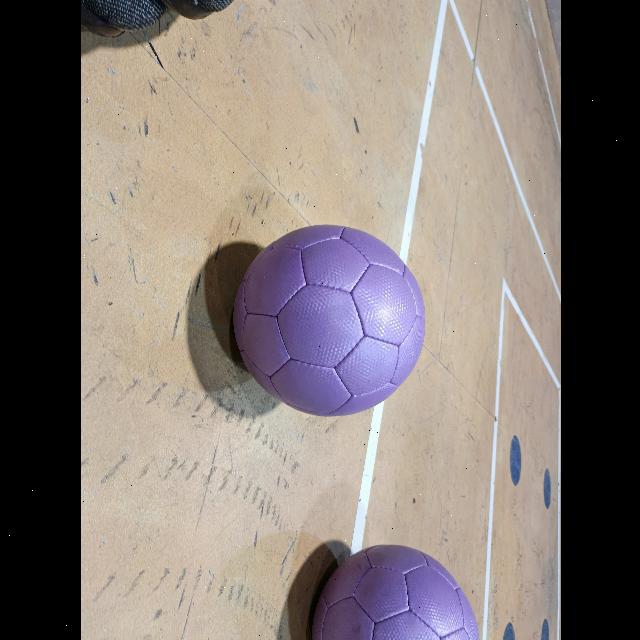P: (233, 225, 424, 415), (312, 546, 478, 640)
